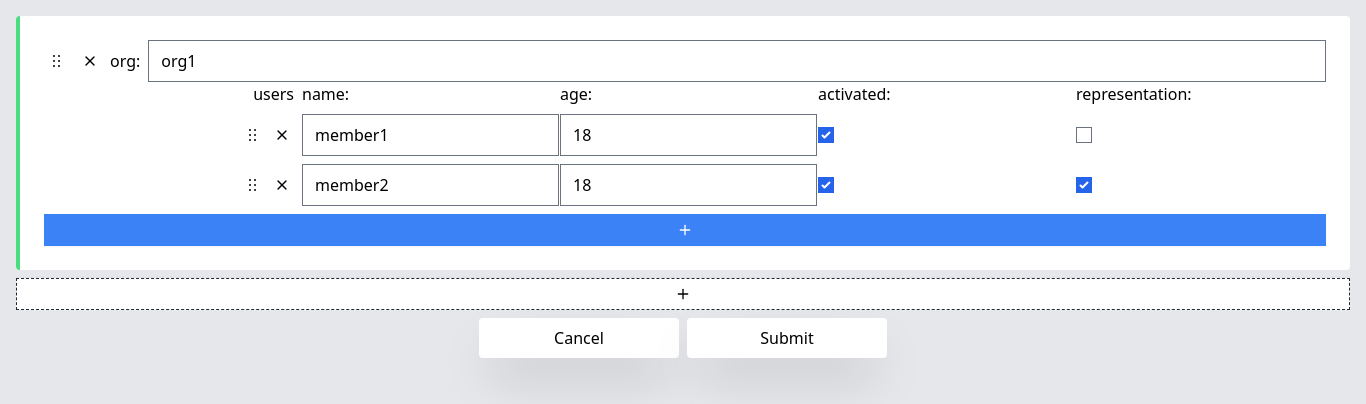
Scenario: test can only check one representation in one organization
This screenshot has width=1366, height=404.
Expected: the 4th checkbox is checked, [1076,177,1092,193]
Click the 2nd checkbox at (1084, 135), box [1076,127,1092,143]
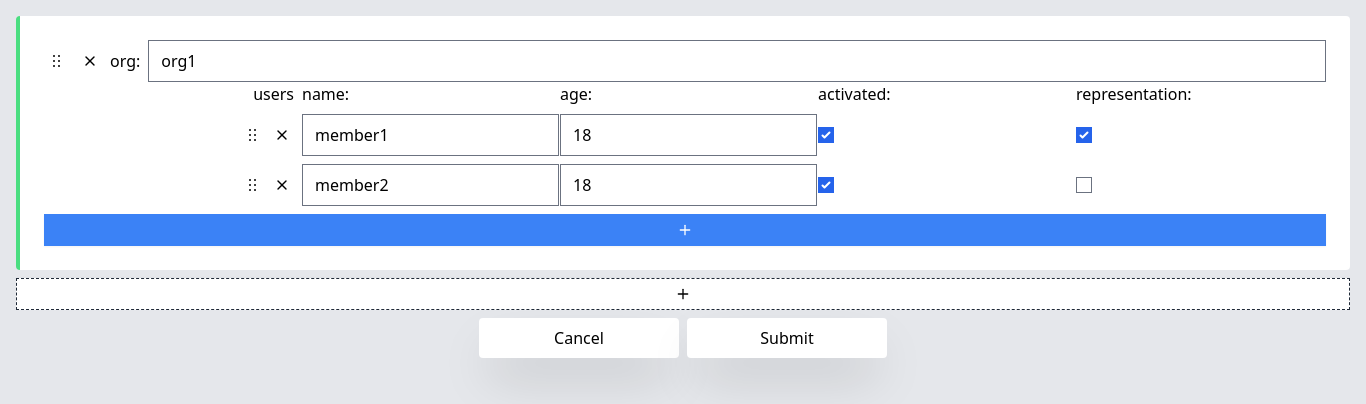
Now the 2nd checkbox is checked, box [1076,127,1092,143]
Now the 4th checkbox is not checked, box [1076,177,1092,193]
